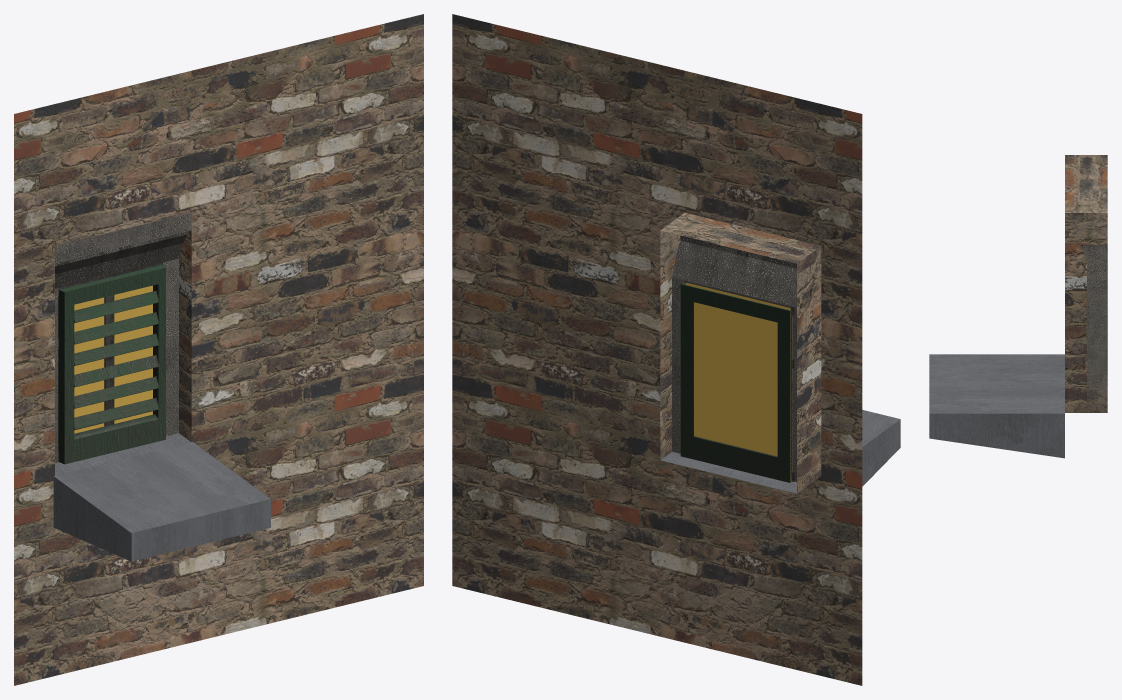
The model's file is SM_Window_Single_Left.fbx.
3 renders of one model, left to right at view 1: azimuth 30°, elevation 25°; view 2: azimuth 150°, elevation 25°; view 3: azimuth 270°, elevation 25°, orthographic. The views are drawn at different scales.
Parts seen in each view (by area): view 1: SM_Window_Single_Left; view 2: SM_Window_Single_Left; view 3: SM_Window_Single_Left.
Boxes of the visible parts, bbox=[...] form: SM_Window_Single_Left: bbox=[14, 14, 423, 685]; SM_Window_Single_Left: bbox=[452, 14, 900, 685]; SM_Window_Single_Left: bbox=[929, 155, 1107, 458].
Size of the model in its own units: 3 by 4 by 1.3.
